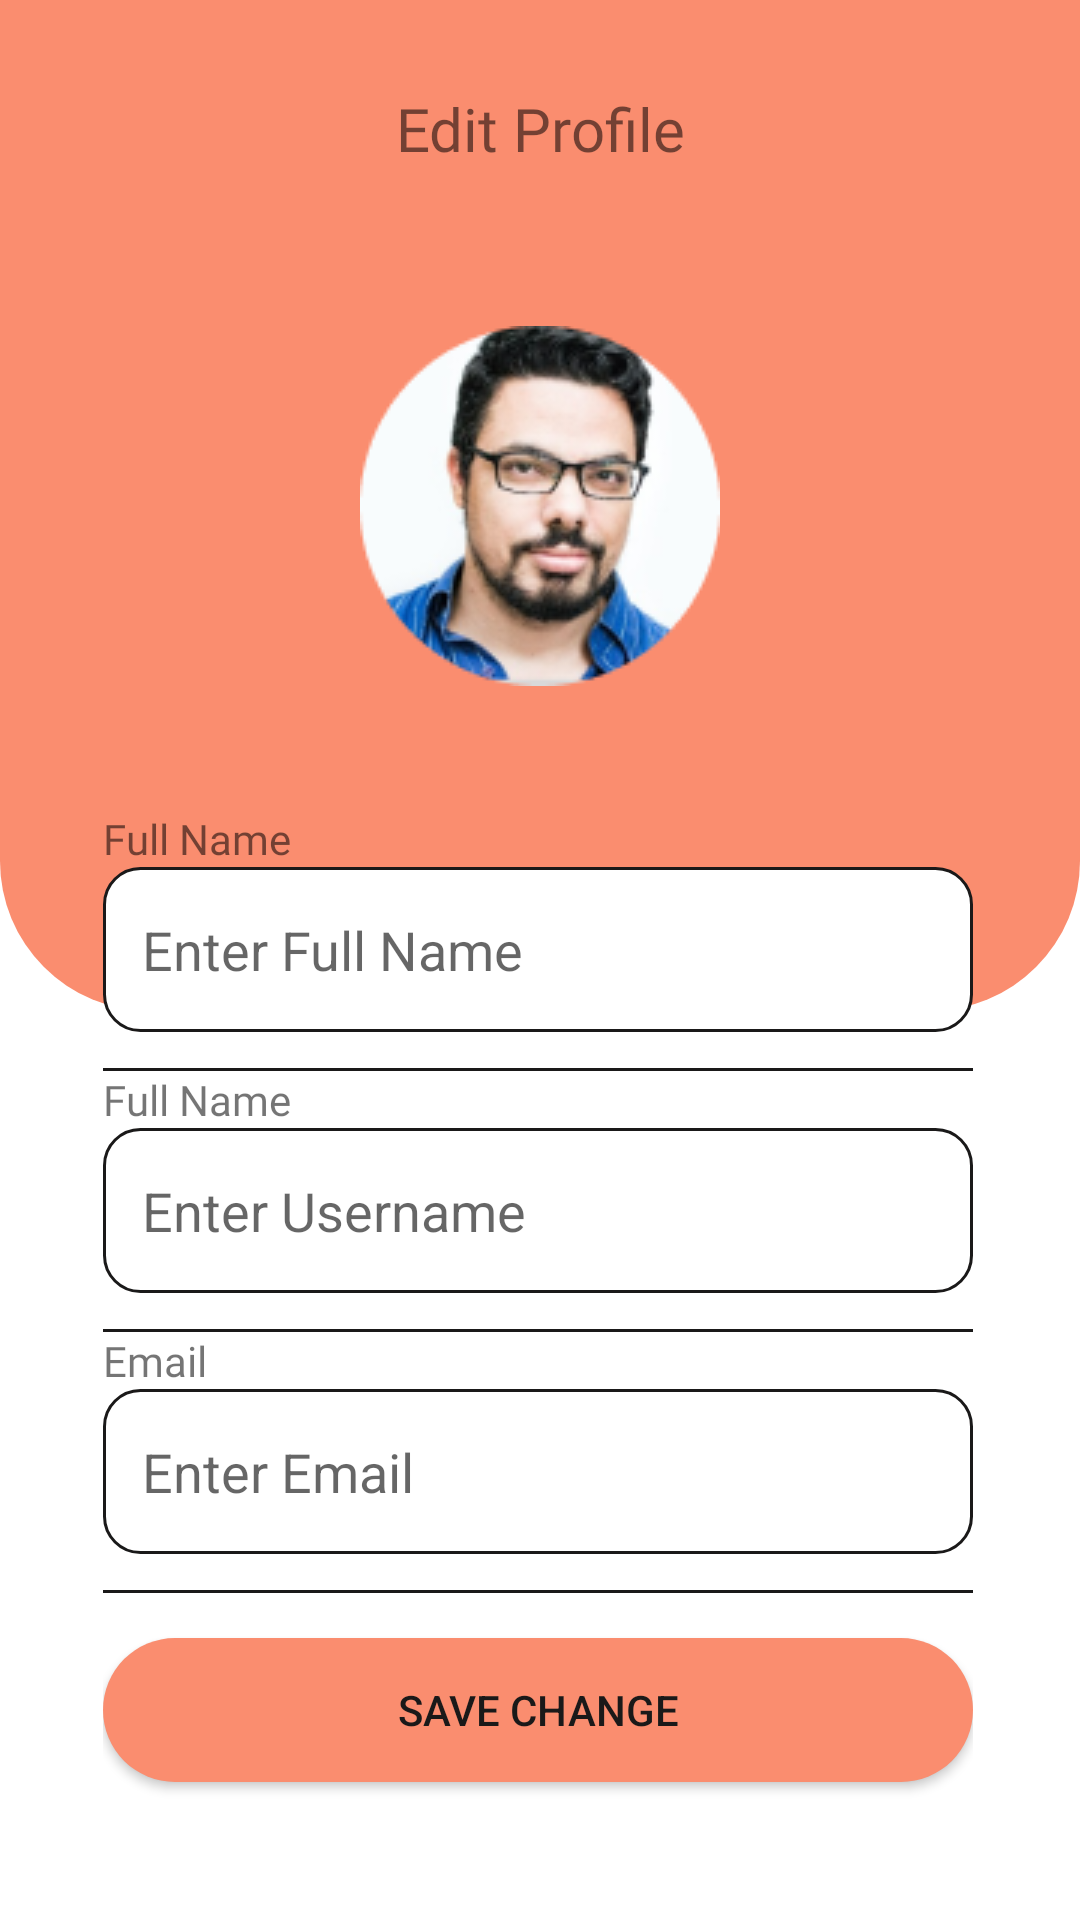

Icons on this 1080px x 1920px Android screen, each with the point to tap as [x,y]:
photo profile: [540,506]
